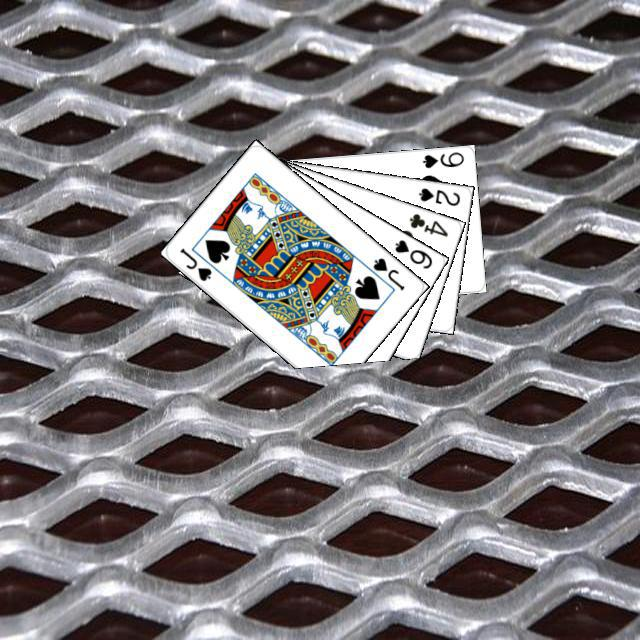2s: (414, 183, 462, 208)
4c: (404, 208, 450, 238)
6s: (390, 235, 434, 271)
9s: (418, 147, 465, 170)
Js: (175, 243, 213, 283), (368, 253, 406, 292)
